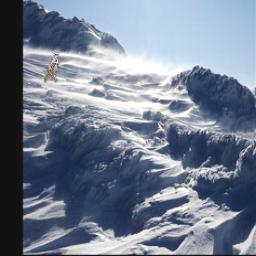Sparrow: (43, 52, 59, 83)
